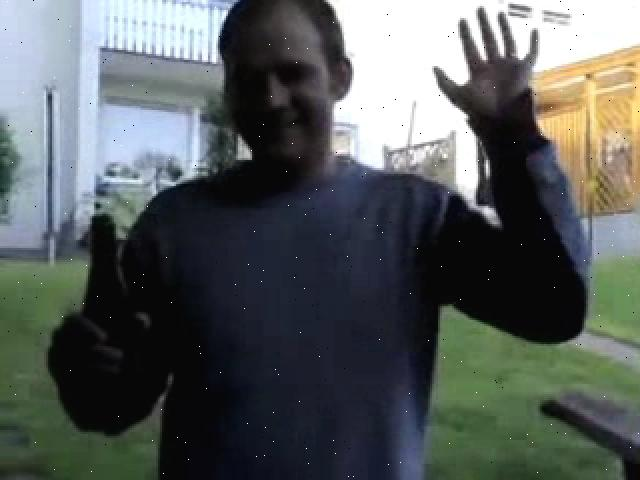L: (39, 0, 612, 480)
